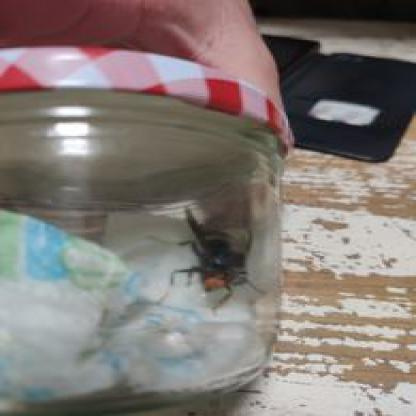Asian Hornet: (163, 198, 262, 312)
